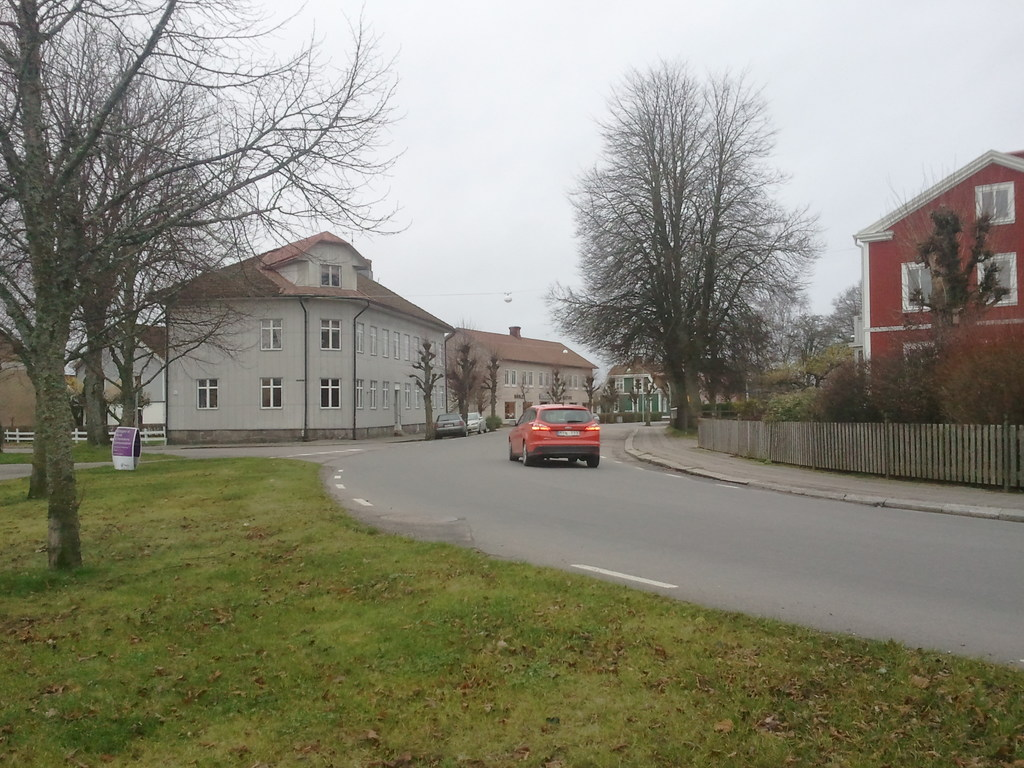Car: (511, 399, 599, 465), (434, 415, 469, 436), (462, 410, 490, 436)
